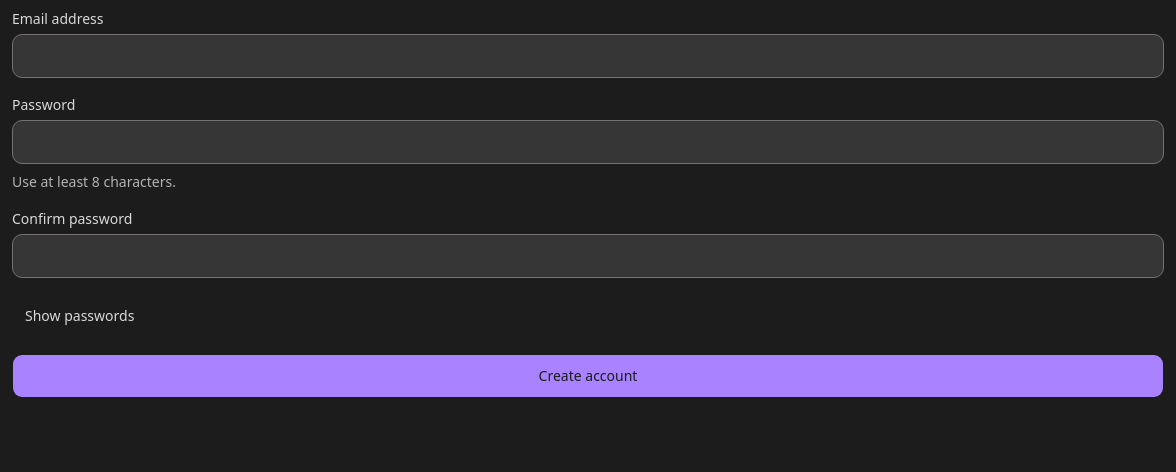
RegistrationForm › does not disclose authentication-provider errors
Type "customer@example.test" into the field labelled "Email address". click: (588, 56)
box: [12,34,1164,78]
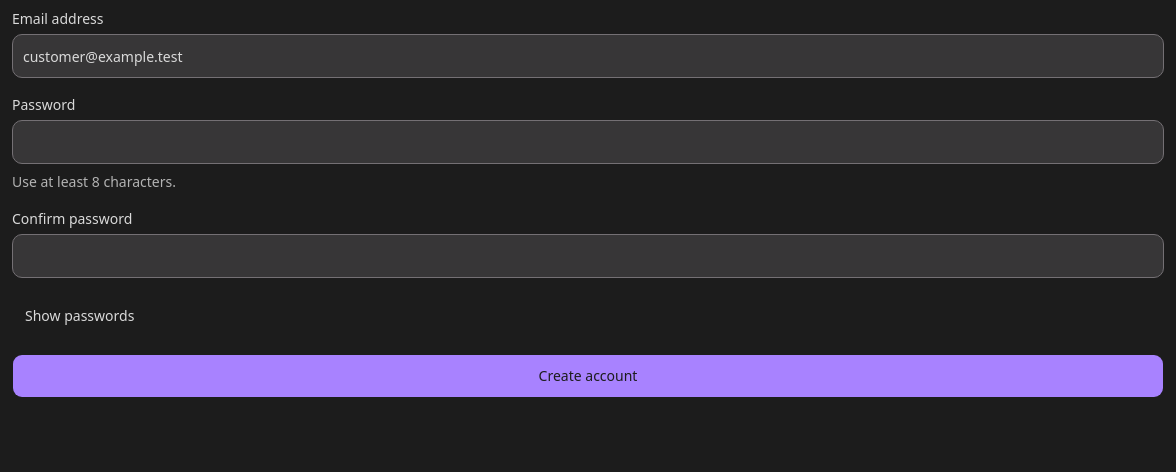
Type "a-long-customer-password" into the password field labelled "Password". click: (588, 142)
box: [12,120,1164,164]
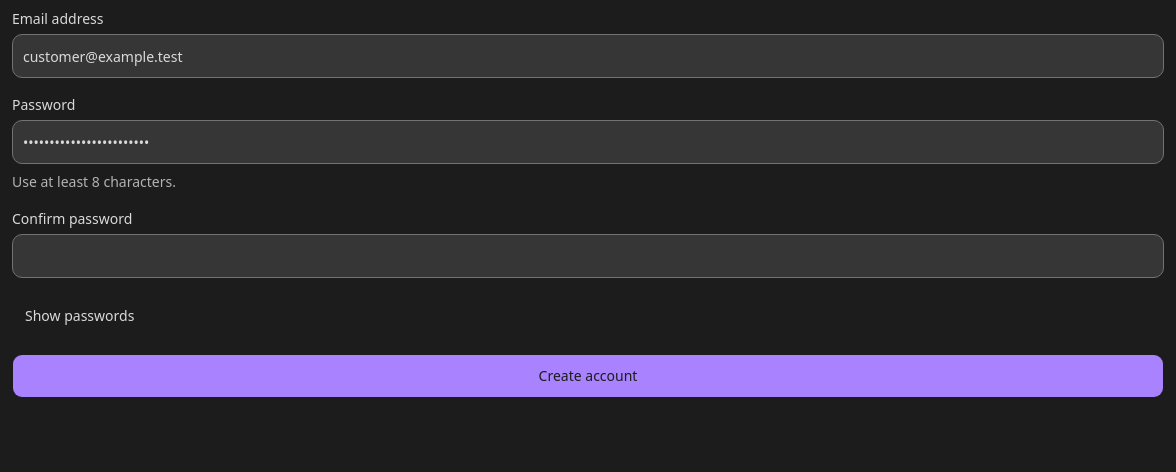
Type "a-long-customer-password" into the password field labelled "Confirm password". click: (588, 256)
box: [12,234,1164,278]
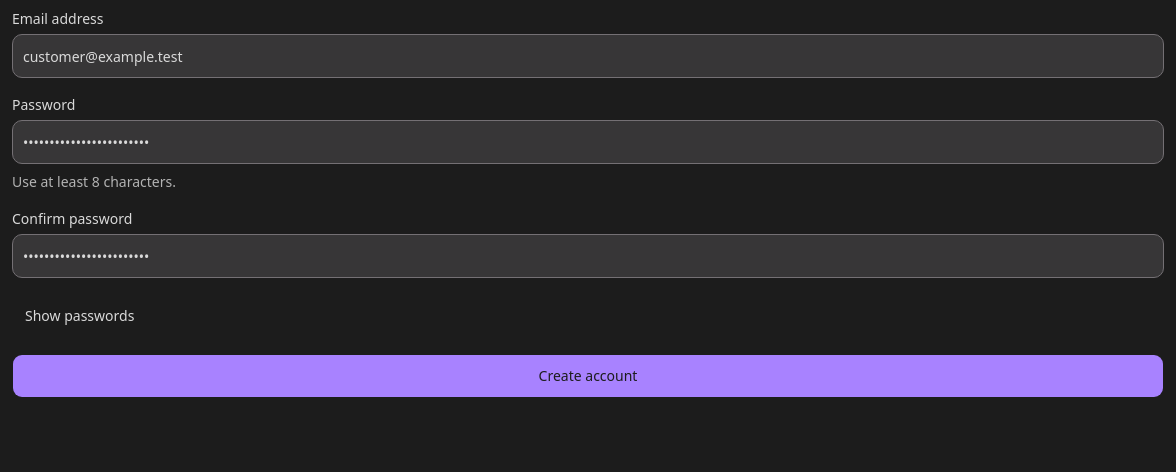
Click the button "Create account". click: (588, 376)
box: [12,354,1164,398]
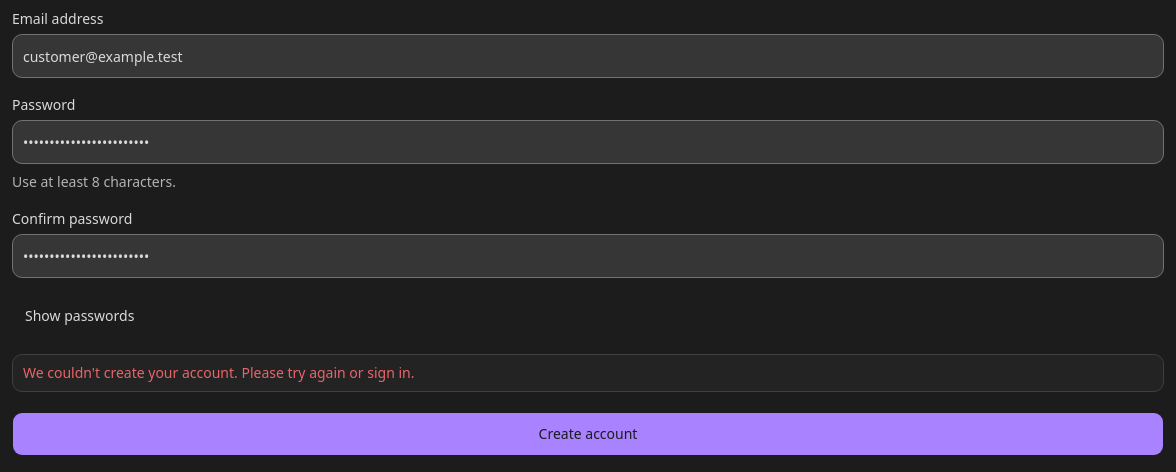
Result: the message reads "We couldn't create your account. Please try again or sign in." at [23,363,414,382]
